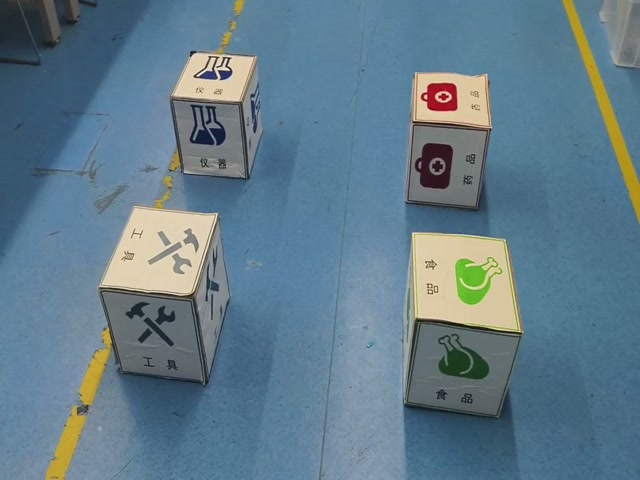Cube_food: (413, 231, 522, 337)
Cube_ins: (170, 47, 256, 105)
Cube_medicine: (410, 74, 486, 132)
Cube_tool: (102, 199, 221, 300)
